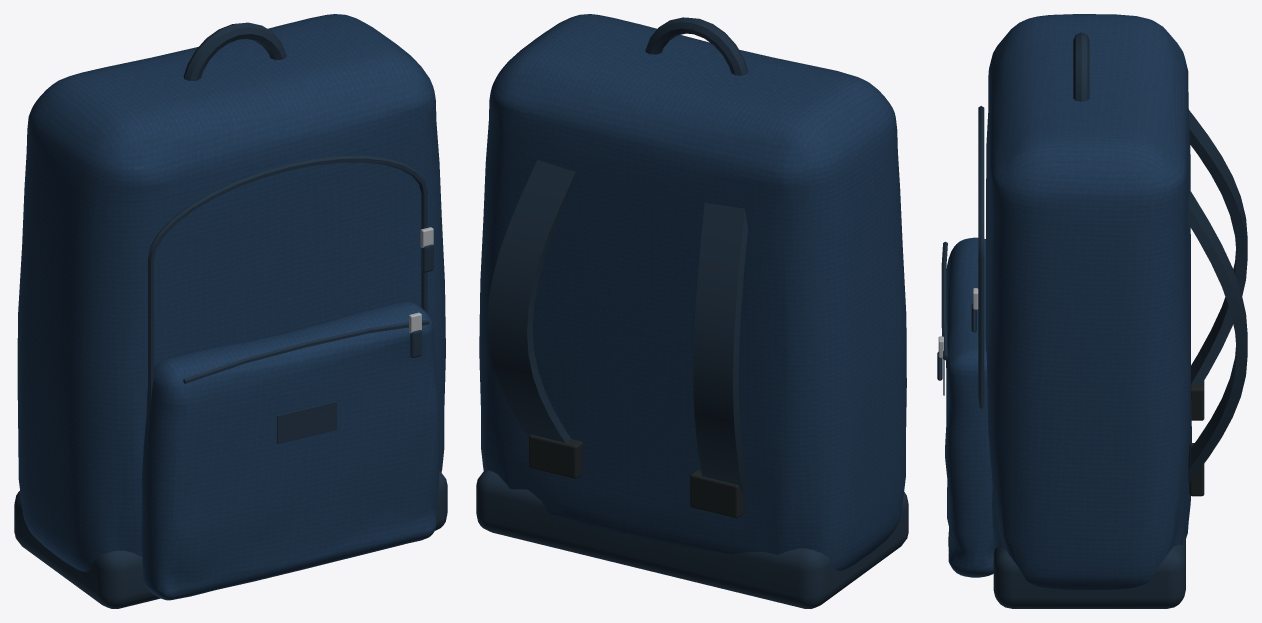
Rendered from mochila_chao_realista.glb.
The picture shows the model from 3 angles, left to right: view 1: azimuth 30°, elevation 25°; view 2: azimuth 150°, elevation 25°; view 3: azimuth 270°, elevation 25°; orthographic projection. The views are drawn at different scales.
Visible parts, largest first — view 1: Mochila_Escolar_PBR; view 2: Mochila_Escolar_PBR; view 3: Mochila_Escolar_PBR.
Boxes of the visible parts, box(x1,y1,x2,y2) form: Mochila_Escolar_PBR: box(14, 14, 447, 608); Mochila_Escolar_PBR: box(476, 14, 908, 608); Mochila_Escolar_PBR: box(937, 14, 1247, 608).
Bounding box in the file's own units: 0.2994 × 0.399 × 0.226.
Materials: 1 (1 with a texture image).
